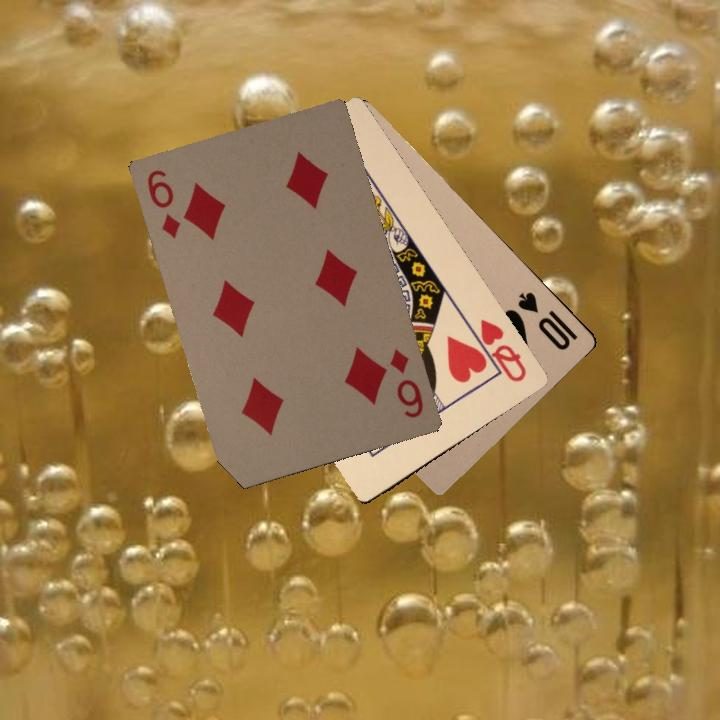10s: (513, 287, 580, 353)
6d: (385, 344, 426, 421), (143, 165, 183, 242)
Qh: (464, 314, 529, 385)
